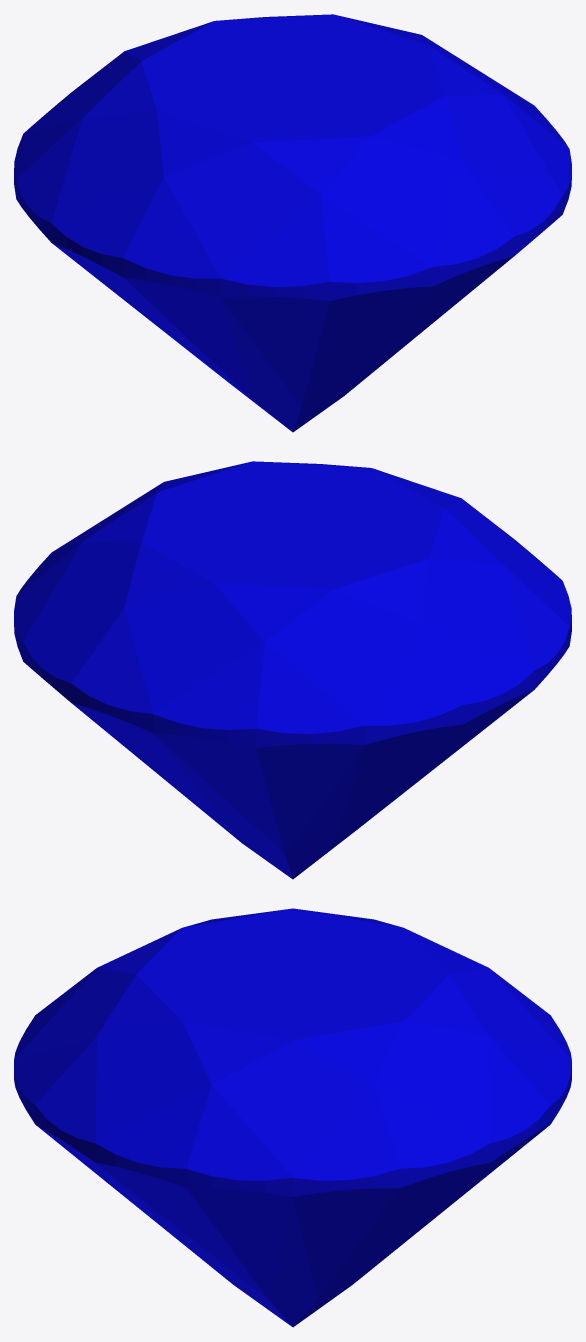
File: Head_Hidden Halo_Round_1.0ct_Diamond.glb
The picture shows the model from 3 angles, top to bottom: view 1: azimuth 30°, elevation 25°; view 2: azimuth 150°, elevation 25°; view 3: azimuth 270°, elevation 25°; orthographic projection.
Size of the model in its own units: 0.00642 by 0.00449 by 0.00644.
